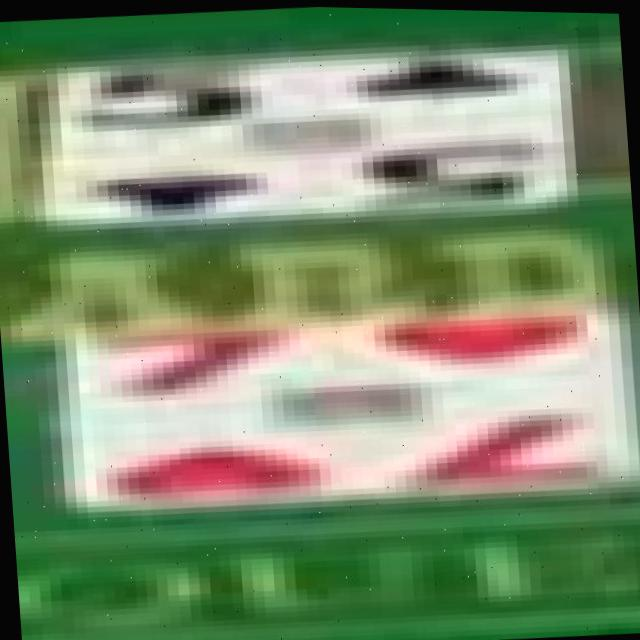Card-5: (49, 42, 572, 223)
Card-7: (69, 299, 631, 509)
